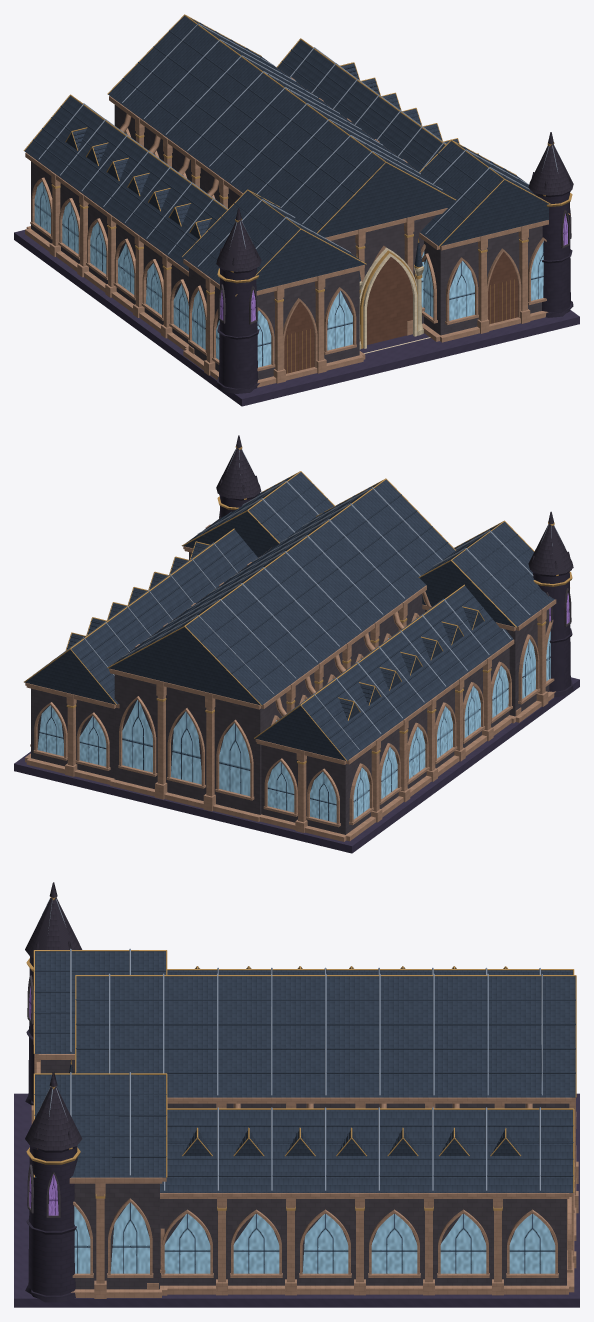
Rendered from annex-of-addenda-far.glb.
3 views of the same model, one above another, from view 1: azimuth 30°, elevation 25°; view 2: azimuth 150°, elevation 25°; view 3: azimuth 270°, elevation 25° (orthographic). The views are drawn at different scales.
Bounding box in the file's own units: 27.88 × 14.17 × 31.4.
Materials: 15 (15 with a texture image).
